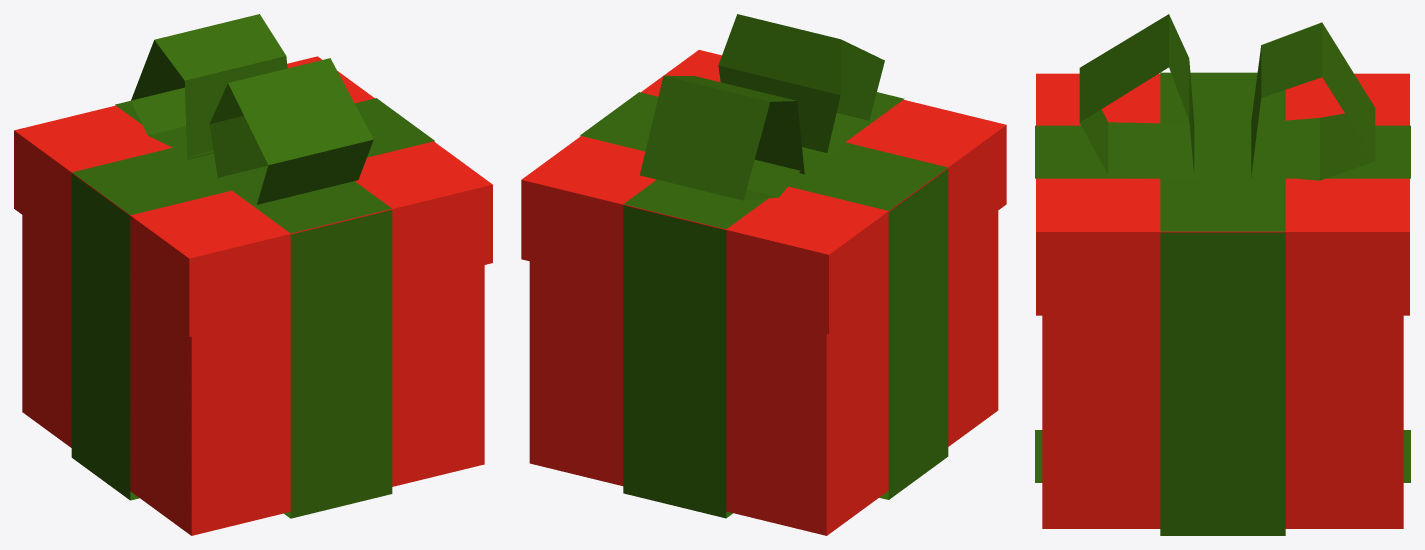
Rendered from gift box.02.fbx.
The picture shows the model from 3 angles, left to right: view 1: azimuth 30°, elevation 25°; view 2: azimuth 150°, elevation 25°; view 3: azimuth 270°, elevation 25°; orthographic projection. The views are drawn at different scales.
Visible parts, largest first — view 1: gift box, gift box ribbon; view 2: gift box, gift box ribbon; view 3: gift box, gift box ribbon.
Boxes of the visible parts, <box> form: gift box: <box>14,56,492,535</box>; gift box ribbon: <box>71,14,434,518</box>; gift box: <box>521,50,1006,535</box>; gift box ribbon: <box>580,14,948,518</box>; gift box: <box>1036,73,1409,528</box>; gift box ribbon: <box>1035,14,1410,535</box>.
Bounding box in the file's own units: 208 × 254 × 208.
